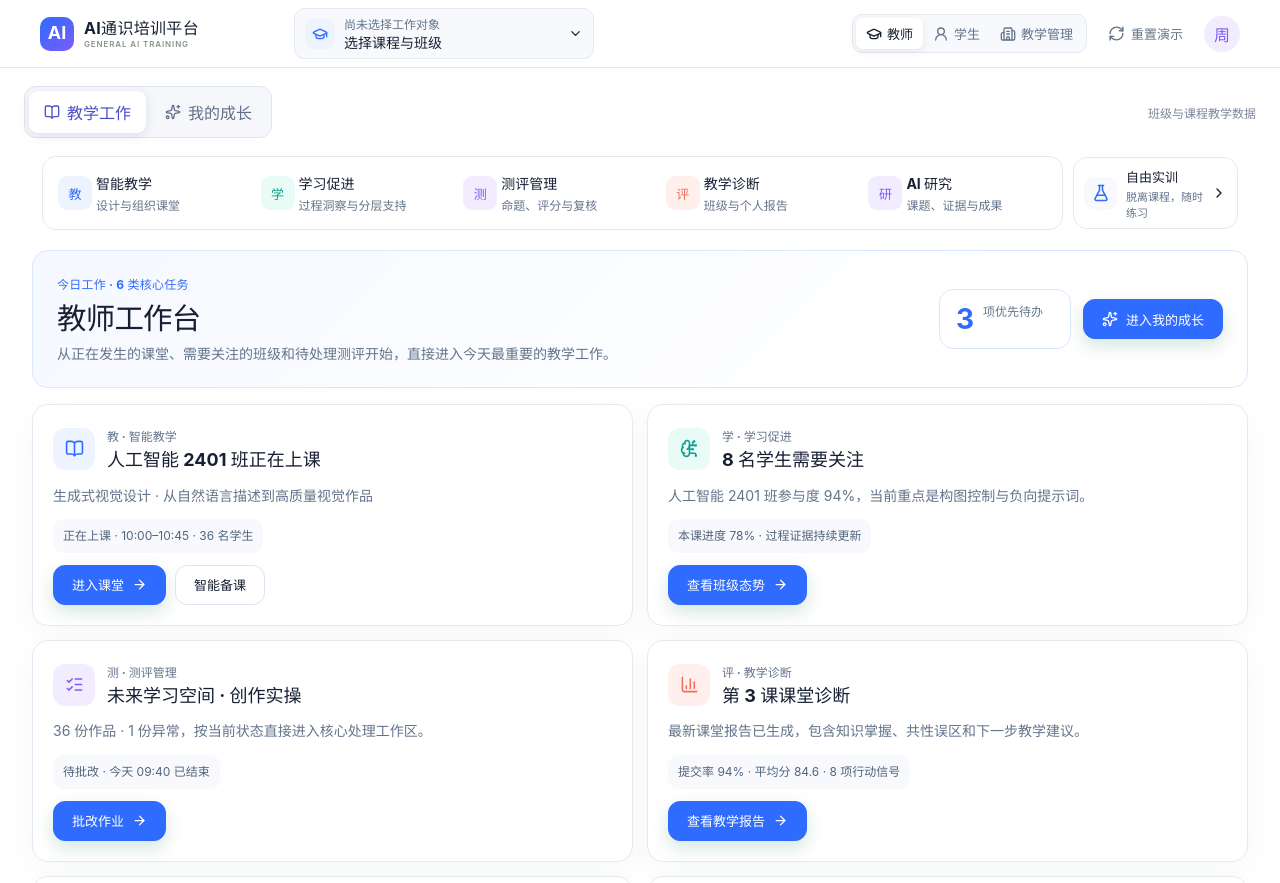
Test case: AI通识培训平台能力主线 › 学生角色保留教、学、测、评但看不到教师管理入口
The image size is (1280, 883).
Click the button "学生" at x=956, y=34, box [923,18,990,49]
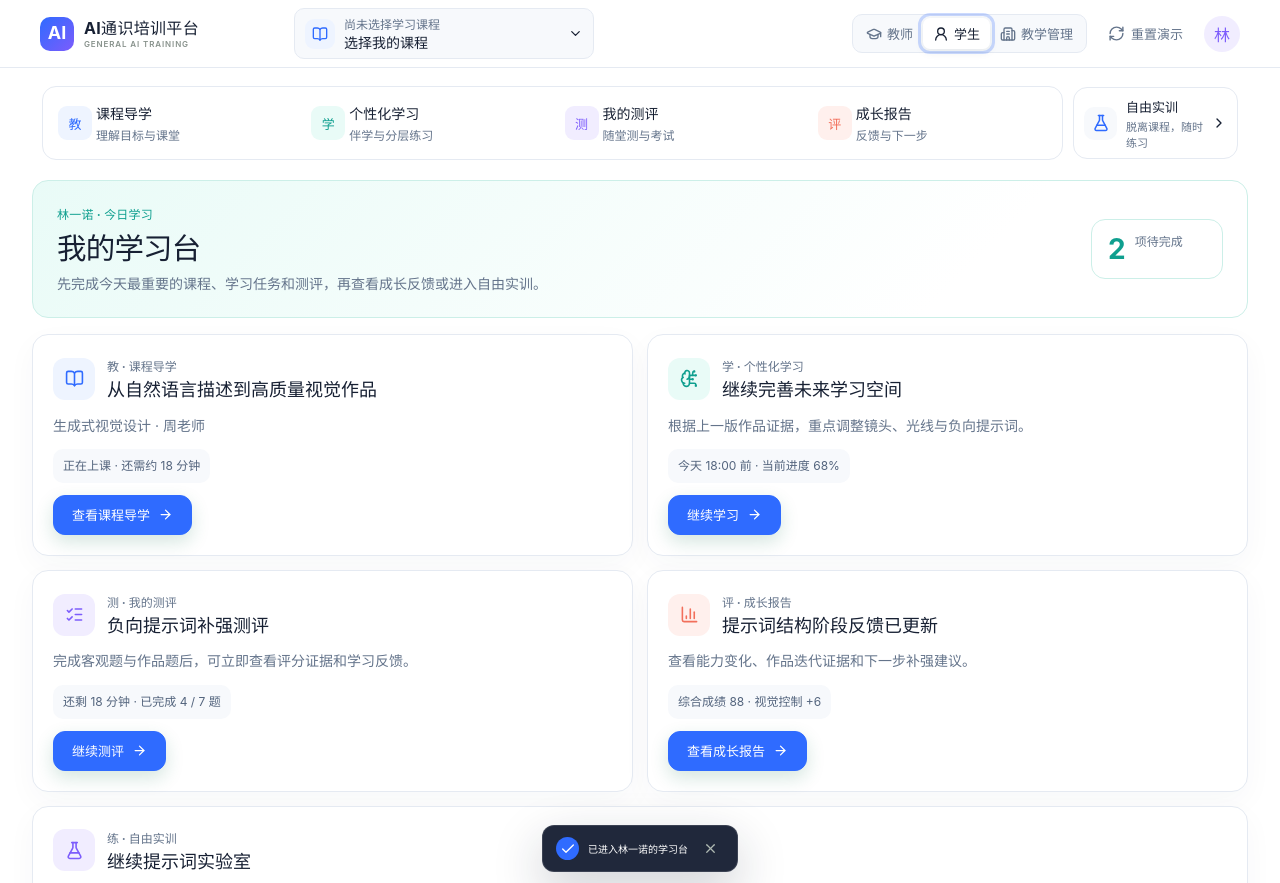
Result: the navigation bar named "学生教、学、测、评功能" is shown at [42,86,1063,160]
Result: the heading "我的学习台" is shown at [57,230,200,266]
Click the button "继续学习" at x=724, y=515, box [668,495,781,535]
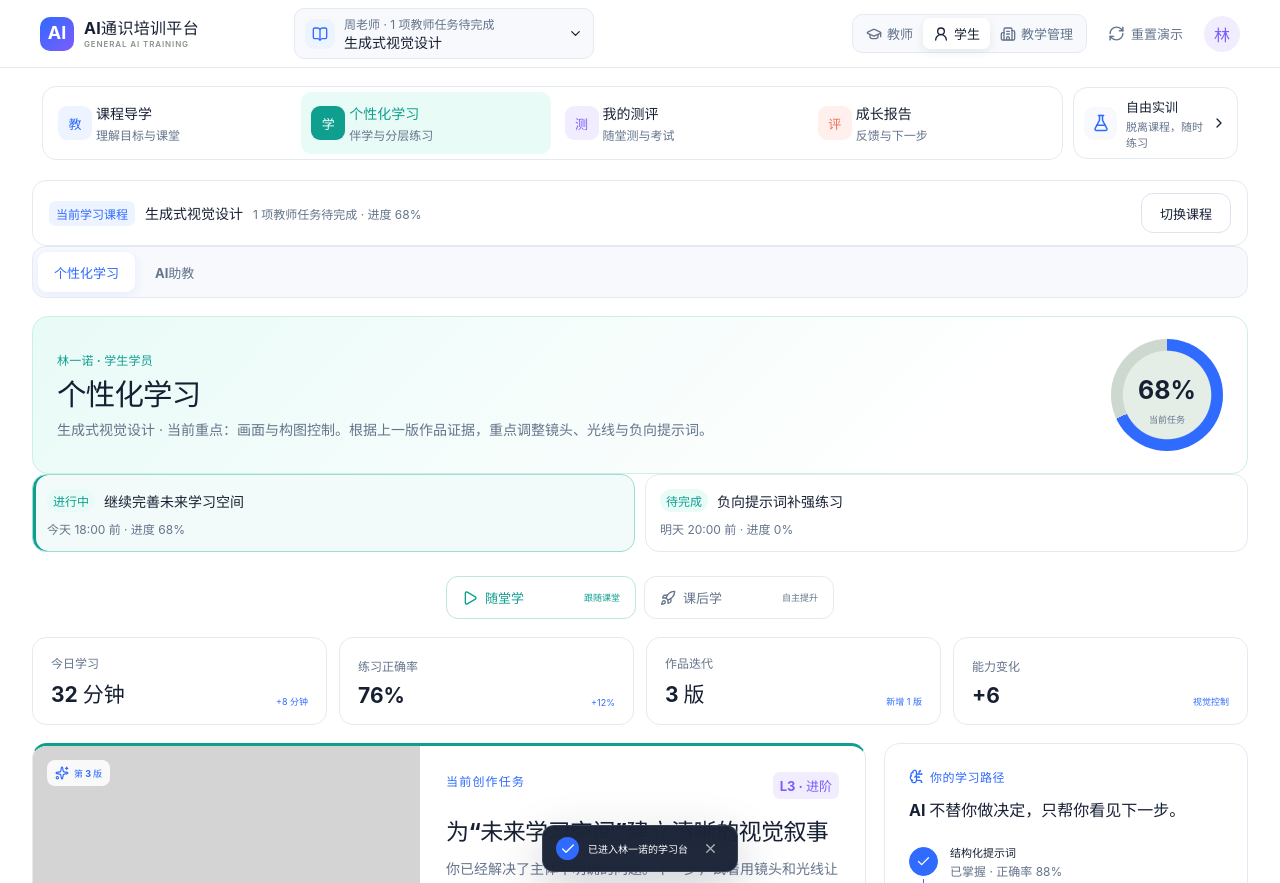
Expected: the button "AI 研究" is not shown
Result: the tab "个性化学习" is shown at [38,252,135,292]
